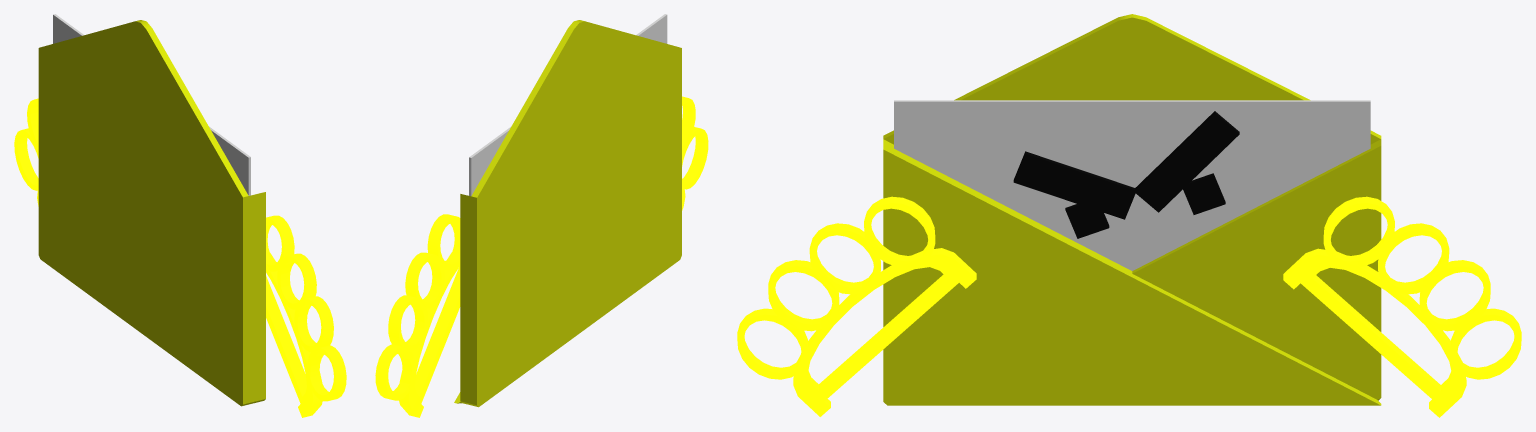
Rendered from Lvl 3 Mail.fbx.
The picture shows the model from 3 angles, left to right: view 1: azimuth 30°, elevation 25°; view 2: azimuth 150°, elevation 25°; view 3: azimuth 270°, elevation 25°; orthographic projection. The views are drawn at different scales.
Parts seen in each view (by area): view 1: Mail_Troop_; view 2: Mail_Troop_; view 3: Mail_Troop_.
Part boxes in pixels (x1=…): Mail_Troop_: x1=14, y1=14, x2=346, y2=417; Mail_Troop_: x1=375, y1=14, x2=708, y2=417; Mail_Troop_: x1=737, y1=14, x2=1521, y2=417.
Bounding box in the file's own units: 0.1379 × 0.9255 × 1.74.
